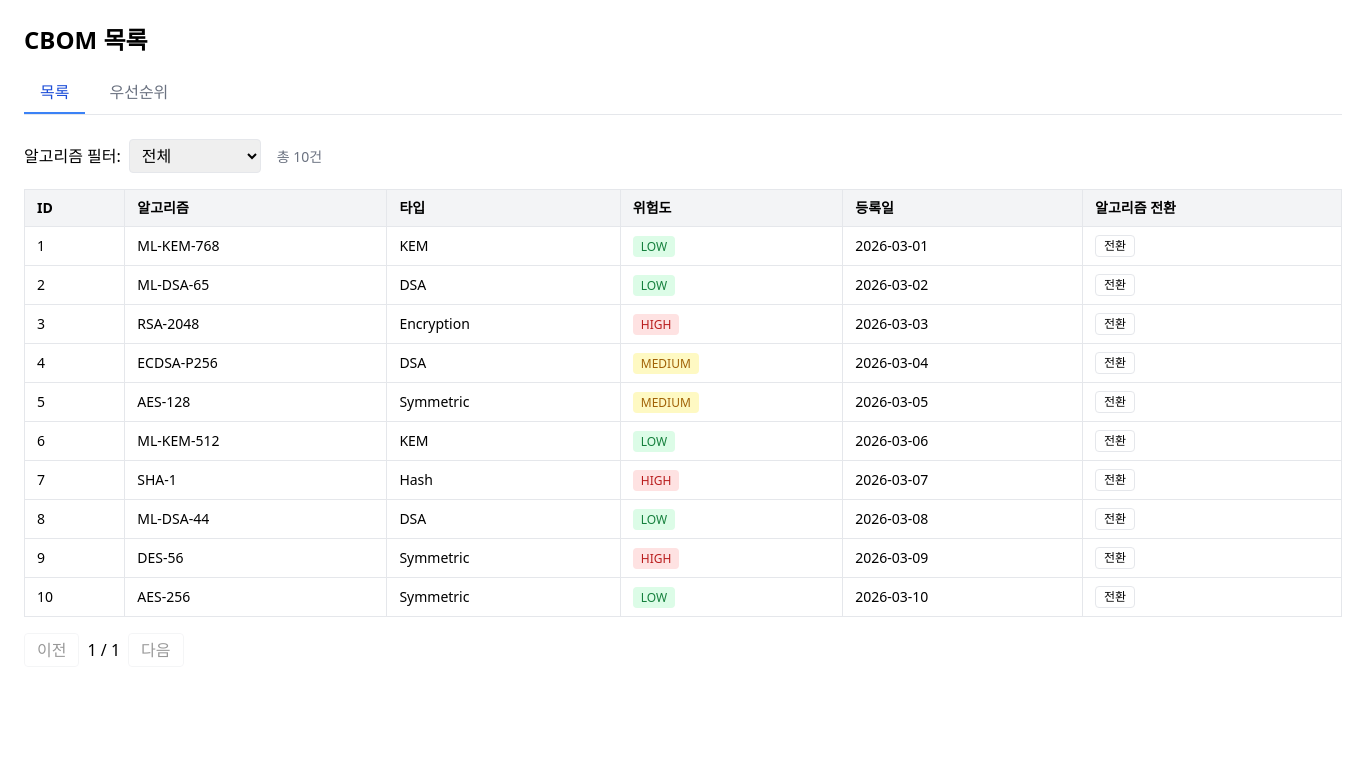
Scenario: CbomPage › AlgorithmSwitchPanel 연결 — 전환 버튼 클릭 시 패널과 currentAlgorithm 표시
Expected: the text "총 10건" is shown, [277,147,322,166]
What coordinates should you click on to do the following:
click the button with aria-label "알고리즘 전환 1"
I would click on:
 (1115, 246)
Its box is [1095,235,1135,257].
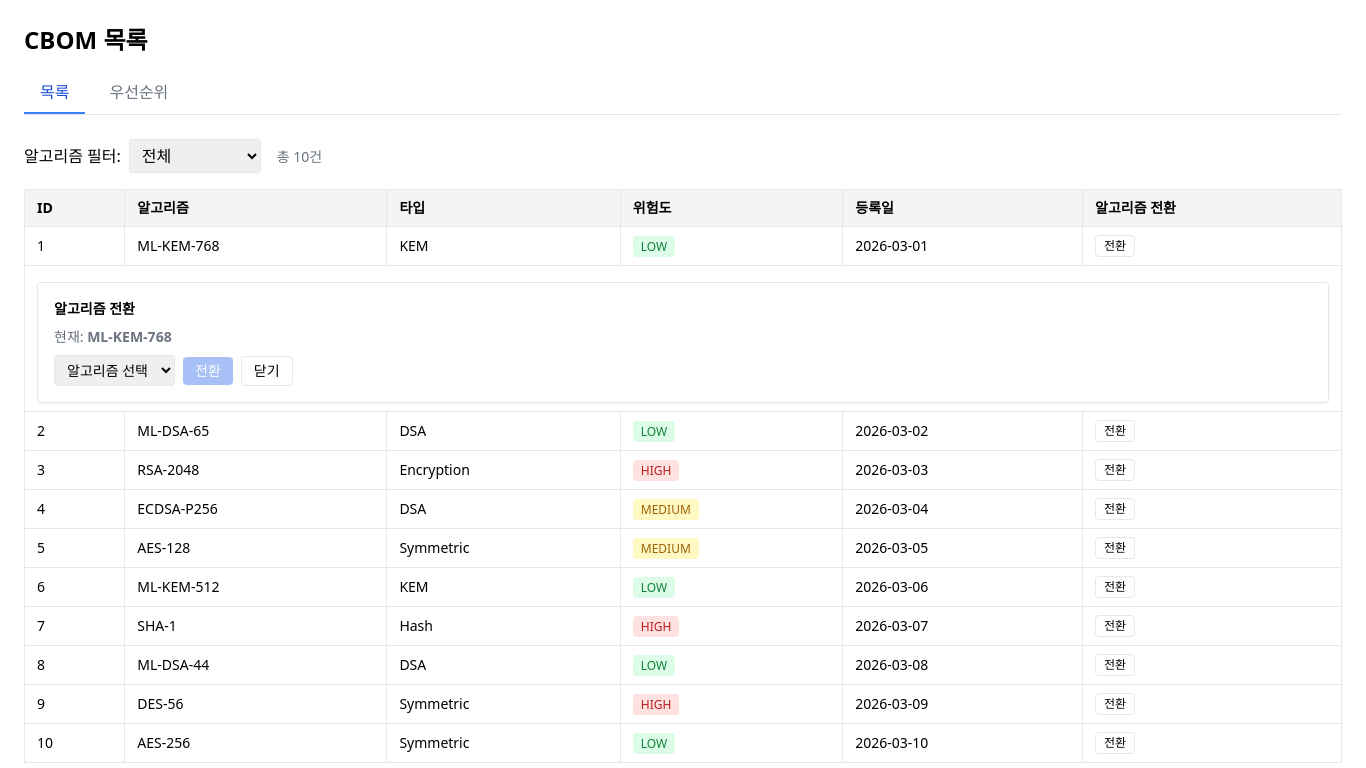
Expected: the heading "알고리즘 전환" is shown, [54,299,135,318]
Expected: the text "ML-KEM-768" is shown, [87,327,172,346]
